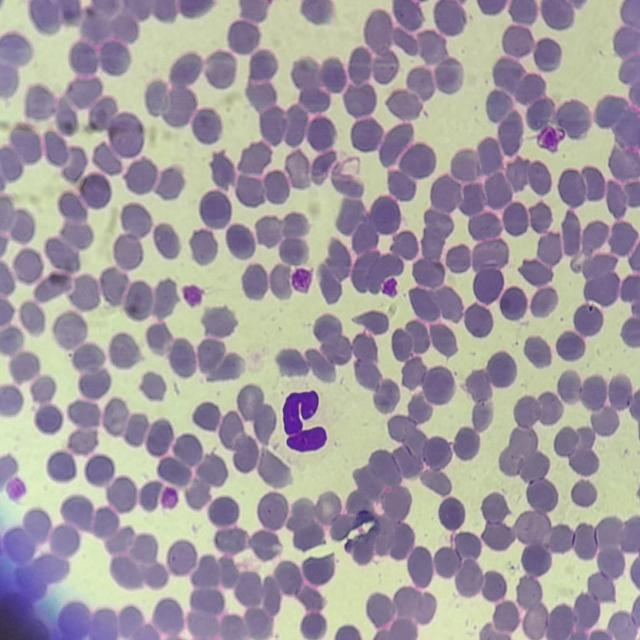Neutrofilo: (282, 388, 331, 452)
